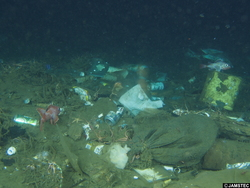fishing net: (30, 82, 93, 110), (16, 61, 52, 86)
plastic bag: (127, 112, 221, 171)
